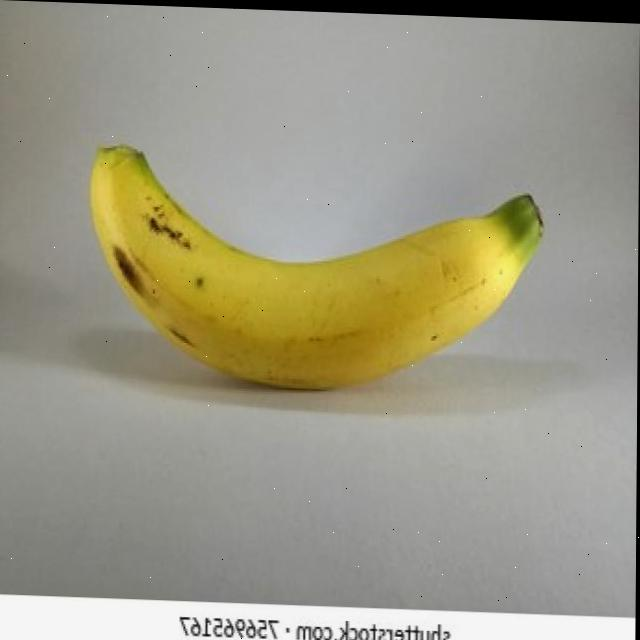banana: (84, 139, 551, 404)
